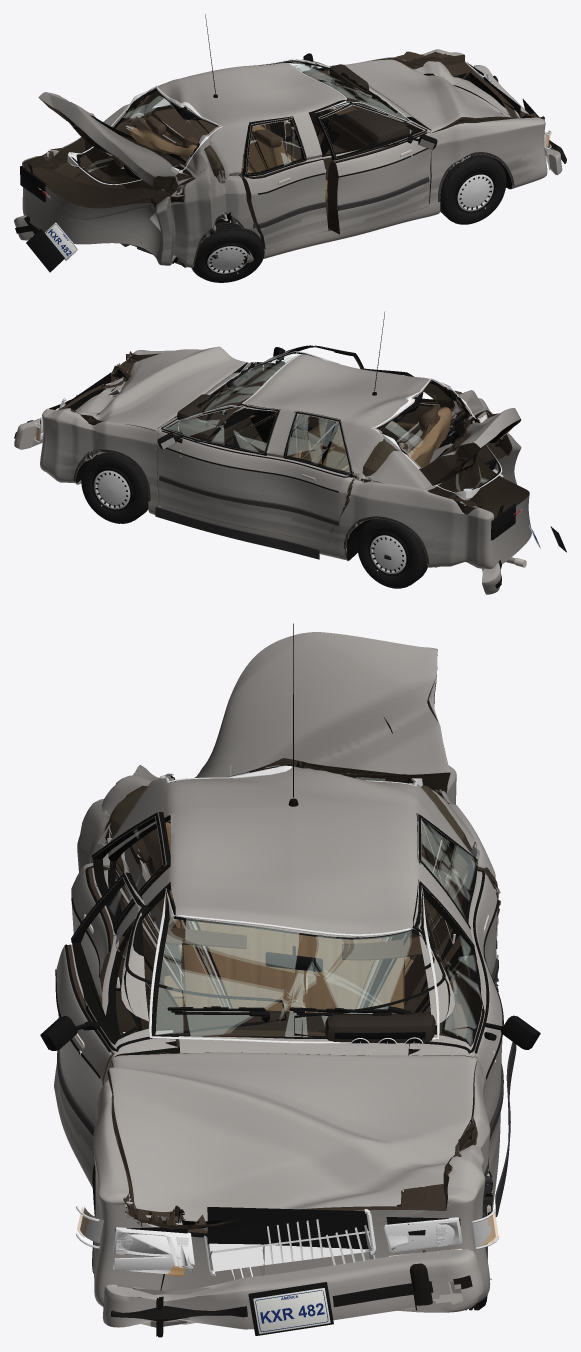
File: sedan87_rear_corner_R_d2.glb
3 views of the same model, one above another, from view 1: azimuth 30°, elevation 25°; view 2: azimuth 150°, elevation 25°; view 3: azimuth 270°, elevation 25° (orthographic). The views are drawn at different scales.
Parts seen in each view (by area): view 1: Body, Door_FR, Interior, Hood, Door_RR, Trunk, Wheel_FR_mesh, Glass, Wheel_RR_mesh, Ends, Trim_FR, Trim_RR (+4 smaller); view 2: Body, Door_FL, Hood, Interior, Door_RL, Wheel_FL_mesh, Wheel_RL_mesh, Glass, Trunk, Trim, Glass_RL, Trim_FL (+8 smaller); view 3: Body, Hood, Trunk, Interior, Glass, Ends, Bumper_F, Door_FR, Door_FL, Door_RR, Trim_FR, Trim_FL (+6 smaller).
Boxes of the visible parts, x1,y1,x2,y2 form: Body: [22, 49, 547, 268]; Door_FR: [316, 103, 431, 234]; Interior: [130, 64, 413, 200]; Hood: [344, 59, 516, 132]; Door_RR: [242, 117, 328, 249]; Trunk: [38, 92, 195, 192]; Wheel_FR_mesh: [440, 154, 506, 224]; Glass: [67, 58, 412, 184]; Wheel_RR_mesh: [191, 221, 264, 282]; Ends: [20, 61, 551, 272]; Trim_FR: [319, 96, 437, 210]; Trim_RR: [245, 118, 326, 228]; Body: [40, 350, 531, 569]; Door_FL: [157, 404, 280, 529]; Hood: [75, 346, 247, 431]; Interior: [175, 370, 451, 471]; Door_RL: [259, 411, 355, 545]; Wheel_FL_mesh: [81, 452, 148, 523]; Wheel_RL_mesh: [357, 519, 427, 588]; Glass: [177, 351, 502, 500]; Trunk: [419, 408, 521, 485]; Trim: [73, 312, 429, 563]; Glass_RL: [287, 414, 350, 473]; Trim_FL: [157, 390, 279, 506]; Body: [77, 765, 500, 1327]; Hood: [107, 1052, 477, 1237]; Trunk: [132, 632, 450, 789]; Interior: [136, 819, 452, 1050]; Glass: [149, 765, 439, 1043]; Ends: [76, 1206, 499, 1335]; Bumper_F: [103, 1249, 483, 1337]; Door_FR: [54, 872, 178, 1187]; Door_FL: [409, 880, 502, 1190]; Door_RR: [71, 812, 170, 1035]; Trim_FR: [40, 873, 286, 1136]; Trim_FL: [294, 881, 540, 1140].
Bounding box in the file's own units: 4.91 × 2.18 × 2.1.
33 materials, 5 textured.
